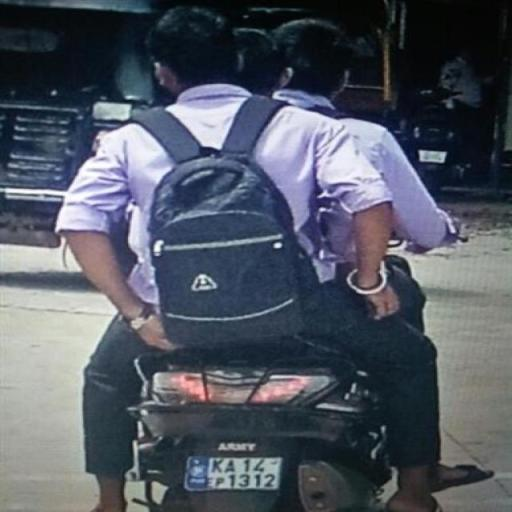tripple riding: (42, 7, 472, 361)
